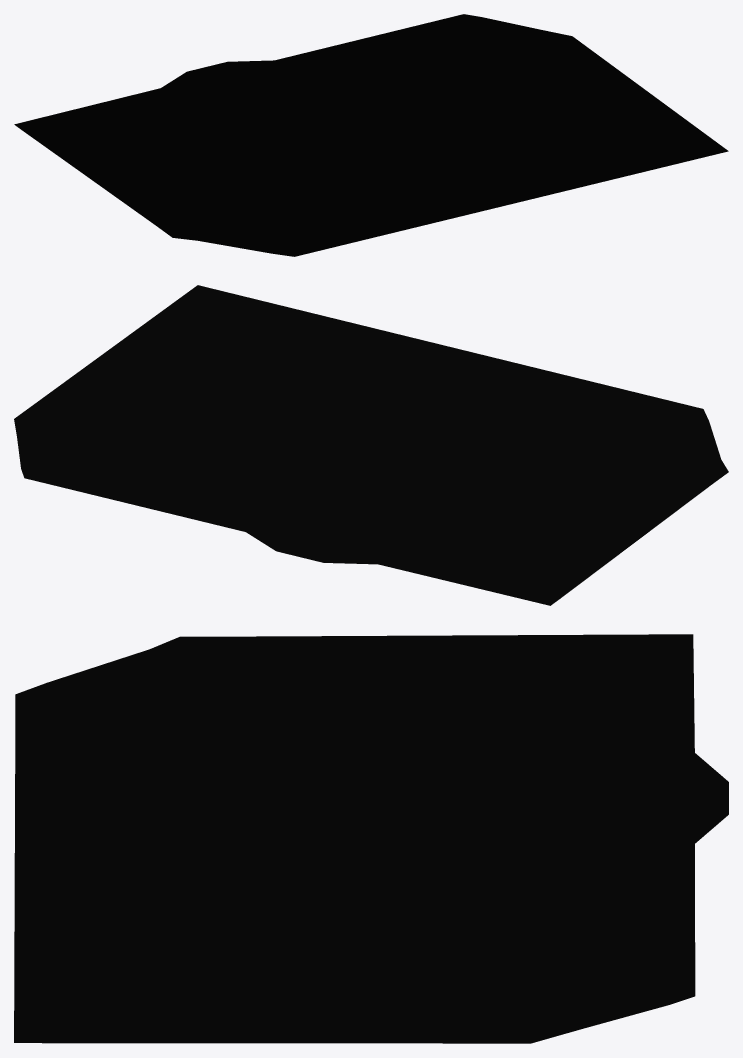
The picture shows the model from 3 angles, top to bottom: view 1: azimuth 30°, elevation 25°; view 2: azimuth 150°, elevation 25°; view 3: azimuth 270°, elevation 25°; orthographic projection. The views are drawn at different scales.
Parts seen in each view (by area): view 1: Joint_0_Object_0; view 2: Joint_0_Object_0; view 3: Joint_0_Object_0.
Part boxes in pixels (x1=…): Joint_0_Object_0: x1=14, y1=14, x2=728, y2=256; Joint_0_Object_0: x1=14, y1=285, x2=728, y2=605; Joint_0_Object_0: x1=14, y1=634, x2=728, y2=1043.
Bounding box in the file's own units: 1481 × 0 × 1094.
Materials: 1 (1 with a texture image).
